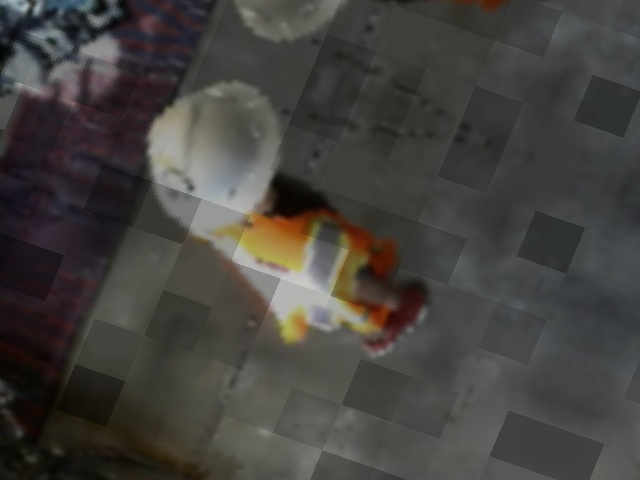two: (137, 160, 198, 205)
